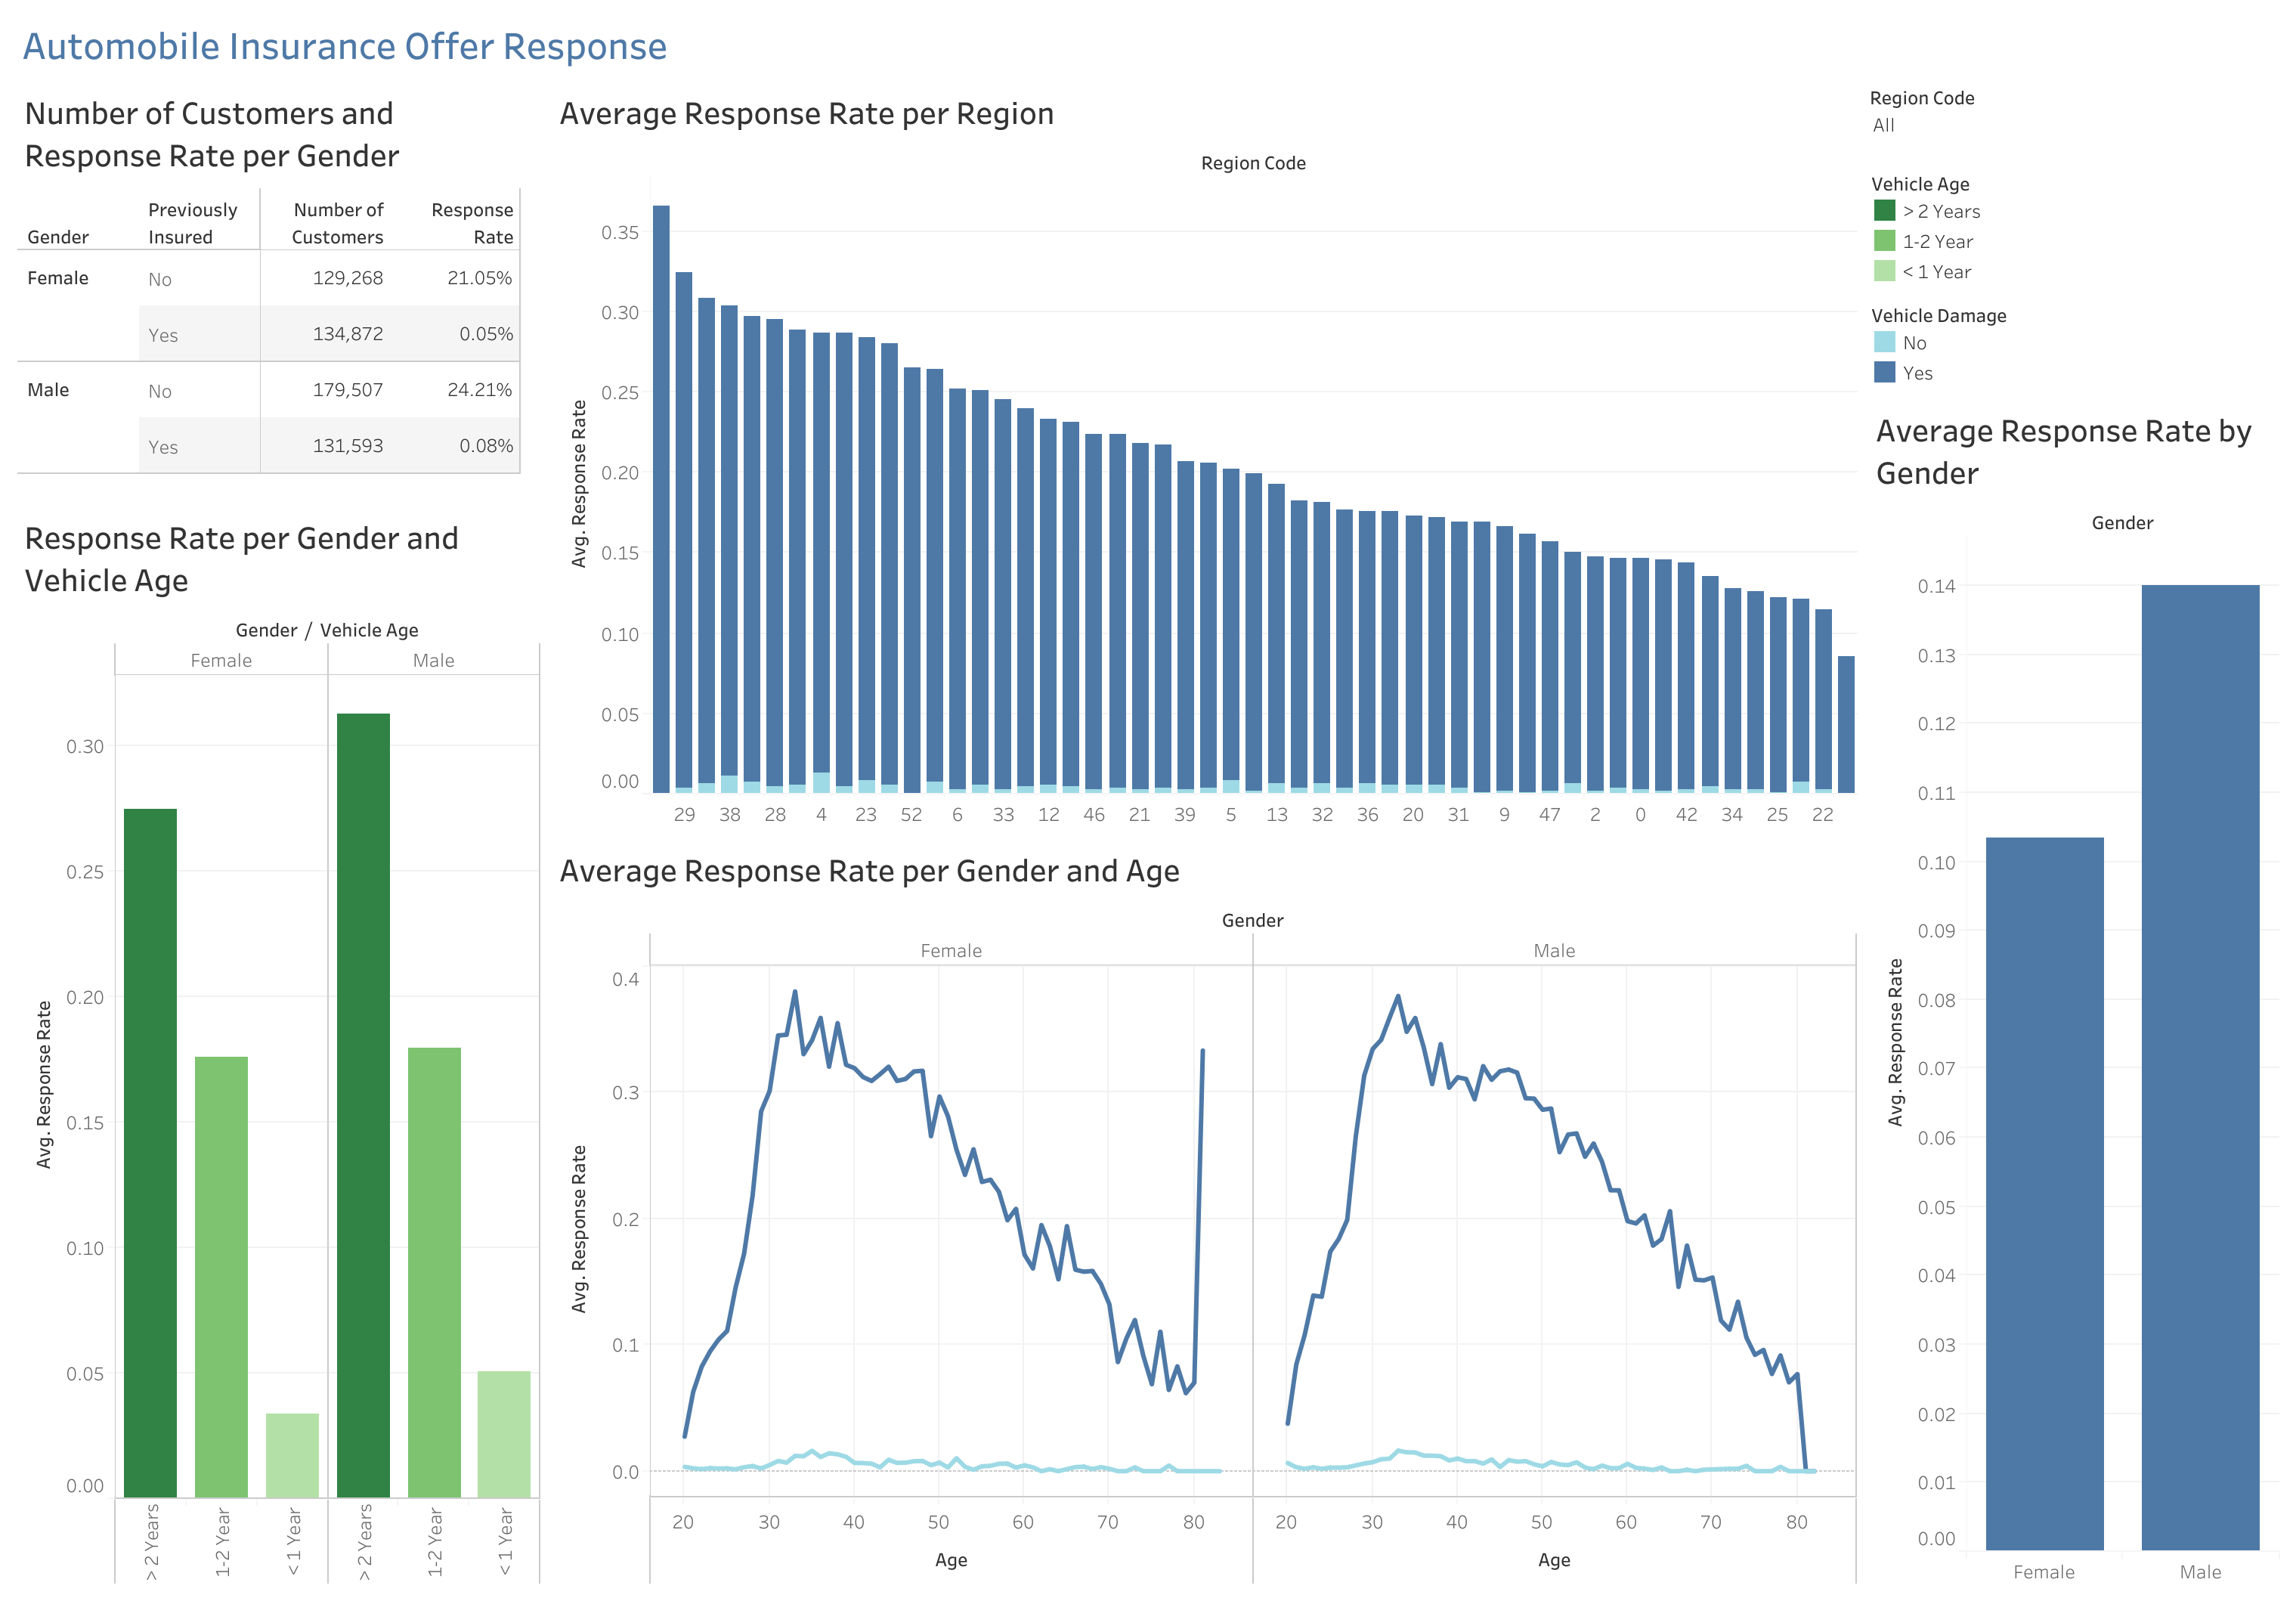

This screenshot's page, from the dashboard's own definition file:
{"tool":"tableau","page":{"name":"Dashboard 1","canvas":[1520,1060],"ordinal":0},"visuals":[{"type":"title","box":[8,8,1504,41]},{"type":"worksheet","title":"Sheet 4","mark":"Automatic","rows":["Gender","Previously_Insured"],"box":[8,49,354,281]},{"type":"worksheet","title":"Sheet 1","mark":"Automatic","rows":["Response"],"cols":["Region_Code"],"box":[362,49,871,501.5]},{"type":"filter","title":"Sheet 4","param":"[federated.0104n1j0rlkqzw1a9i3hz1k7s66k].[none:Region_Code:ok]","box":[1233,49,279,52]},{"type":"legend","title":"Sheet 3","param":"[federated.0104n1j0rlkqzw1a9i3hz1k7s66k].[none:Vehicle_Age:nk]","box":[1233,101,279,86]},{"type":"legend","title":"Sheet 2","param":"[federated.0104n1j0rlkqzw1a9i3hz1k7s66k].[none:Vehicle_Damage:nk]","box":[1233,187,279,66]},{"type":"worksheet","title":"Sheet 6","mark":"Automatic","rows":["Response"],"cols":["Gender"],"box":[1233,253,279,799]},{"type":"worksheet","title":"Sheet 3","mark":"Automatic","rows":["Response"],"cols":["Gender","Vehicle_Age"],"box":[8,330,354,722]},{"type":"worksheet","title":"Sheet 2","mark":"Automatic","rows":["Response"],"cols":["Gender","Age"],"box":[362,550.5,871,501.5]}]}

Visuals, with their boxes in screenshot pixels (x1, y1, x2, y2), scaled from the page's 1520x1060 canvas onto the 2296x1601 screenshot:
title: {"x1": 12, "y1": 12, "x2": 2284, "y2": 74}
"Sheet 4" worksheet: {"x1": 12, "y1": 74, "x2": 547, "y2": 498}
"Sheet 1" worksheet: {"x1": 547, "y1": 74, "x2": 1862, "y2": 831}
"Sheet 4" filter: {"x1": 1862, "y1": 74, "x2": 2284, "y2": 153}
"Sheet 3" legend: {"x1": 1862, "y1": 153, "x2": 2284, "y2": 283}
"Sheet 2" legend: {"x1": 1862, "y1": 283, "x2": 2284, "y2": 382}
"Sheet 6" worksheet: {"x1": 1862, "y1": 382, "x2": 2284, "y2": 1589}
"Sheet 3" worksheet: {"x1": 12, "y1": 498, "x2": 547, "y2": 1589}
"Sheet 2" worksheet: {"x1": 547, "y1": 831, "x2": 1862, "y2": 1589}
